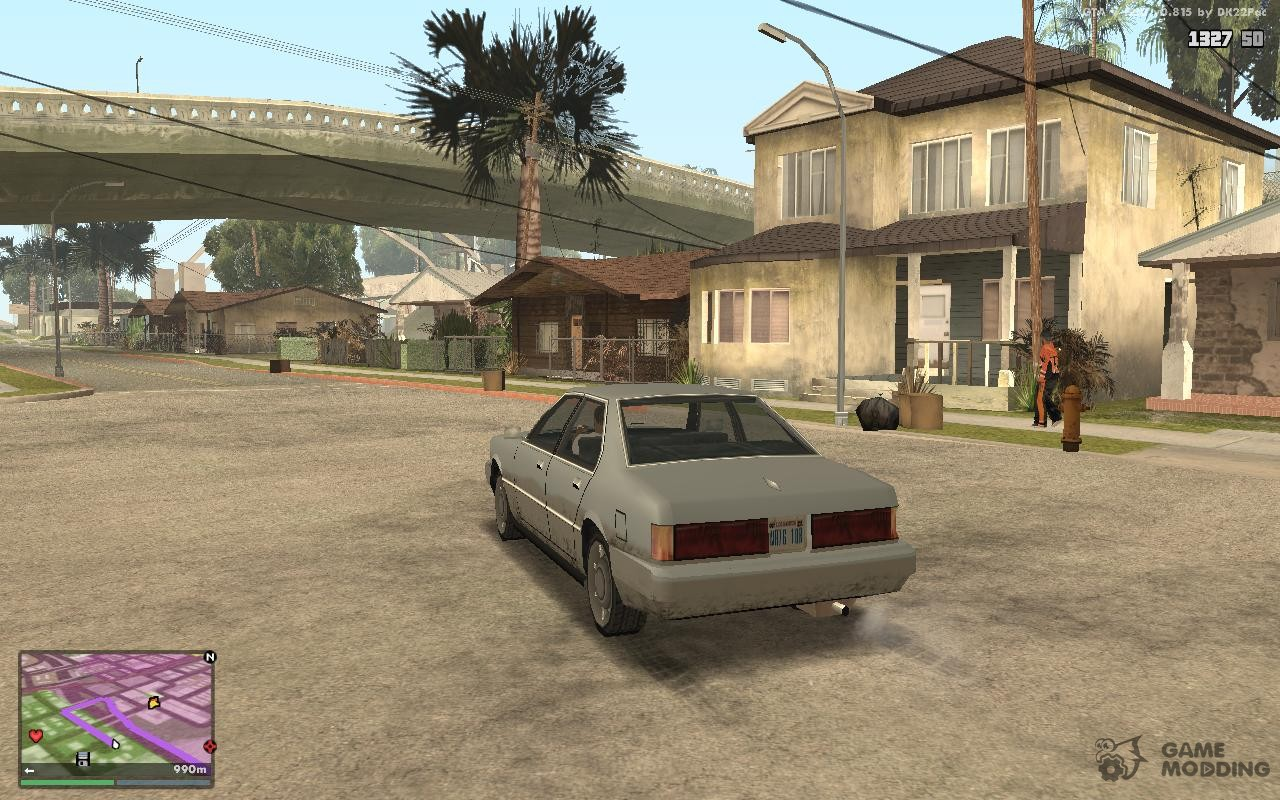car: (485, 396, 915, 647)
person: (1031, 329, 1065, 437)
